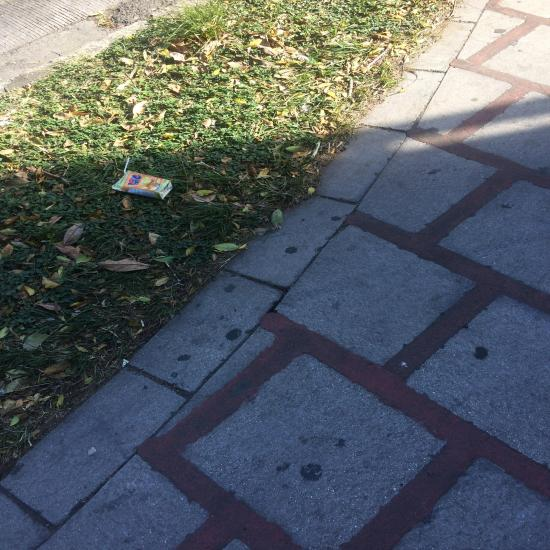Drink carton: (112, 171, 173, 200)
Plastic straw: (124, 158, 130, 174)
